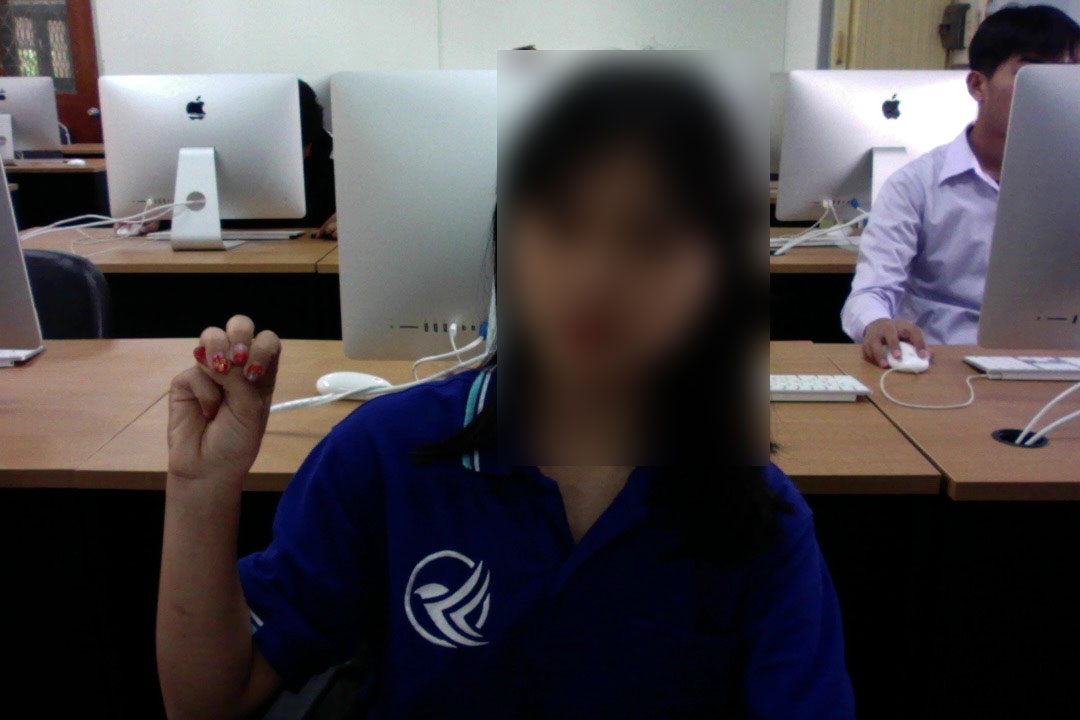mor: (156, 307, 291, 506)
